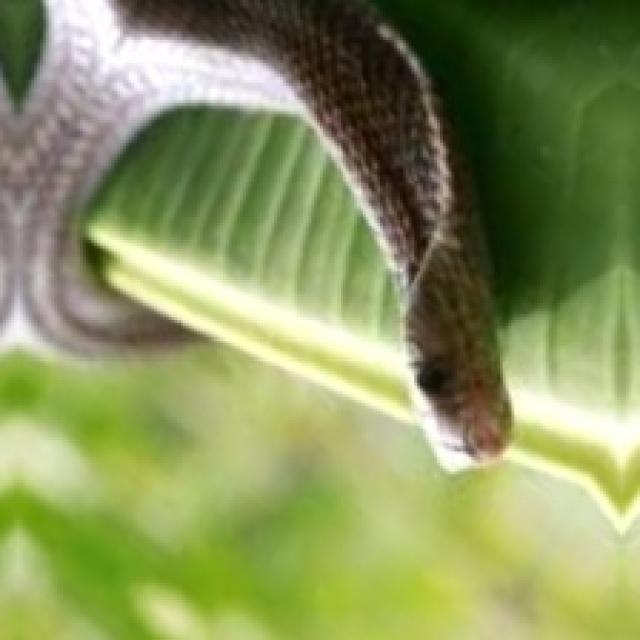philippine cobra: (0, 0, 509, 466)
